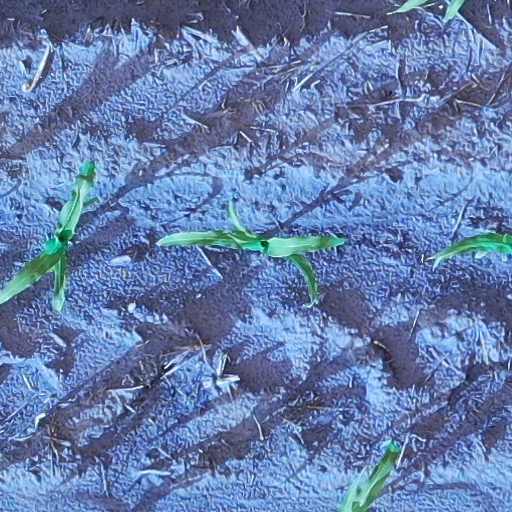planta: (152, 199, 350, 307)
